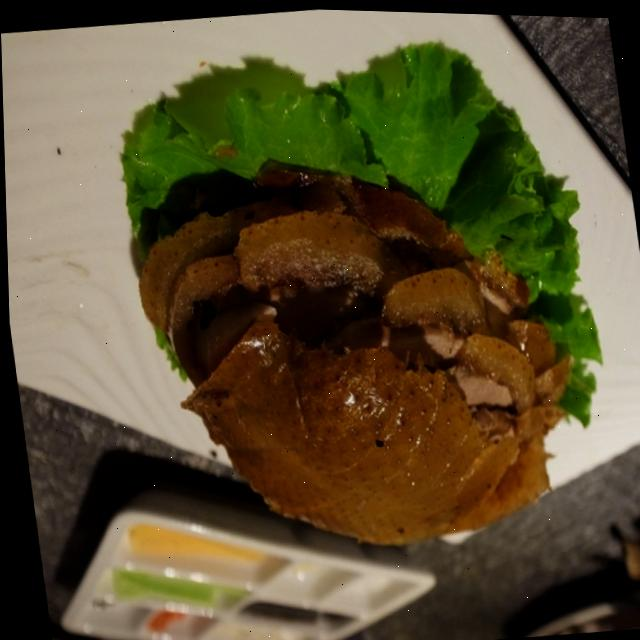烧串烤肉: (105, 39, 611, 583)
